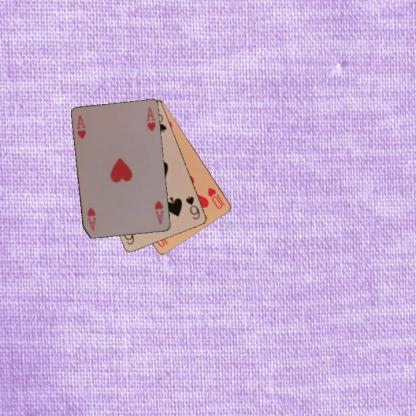10h: (205, 185, 227, 210)
6s: (183, 194, 201, 221)
Ah: (152, 198, 165, 226), (75, 113, 87, 141)
